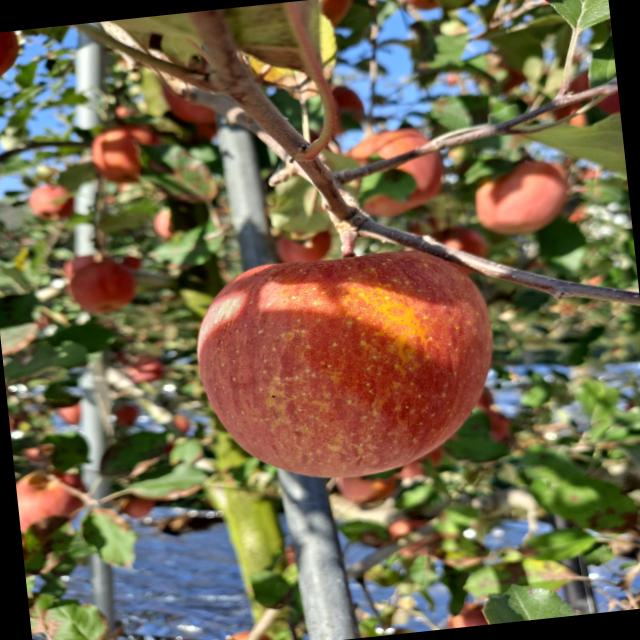fresh: (174, 229, 514, 502)
